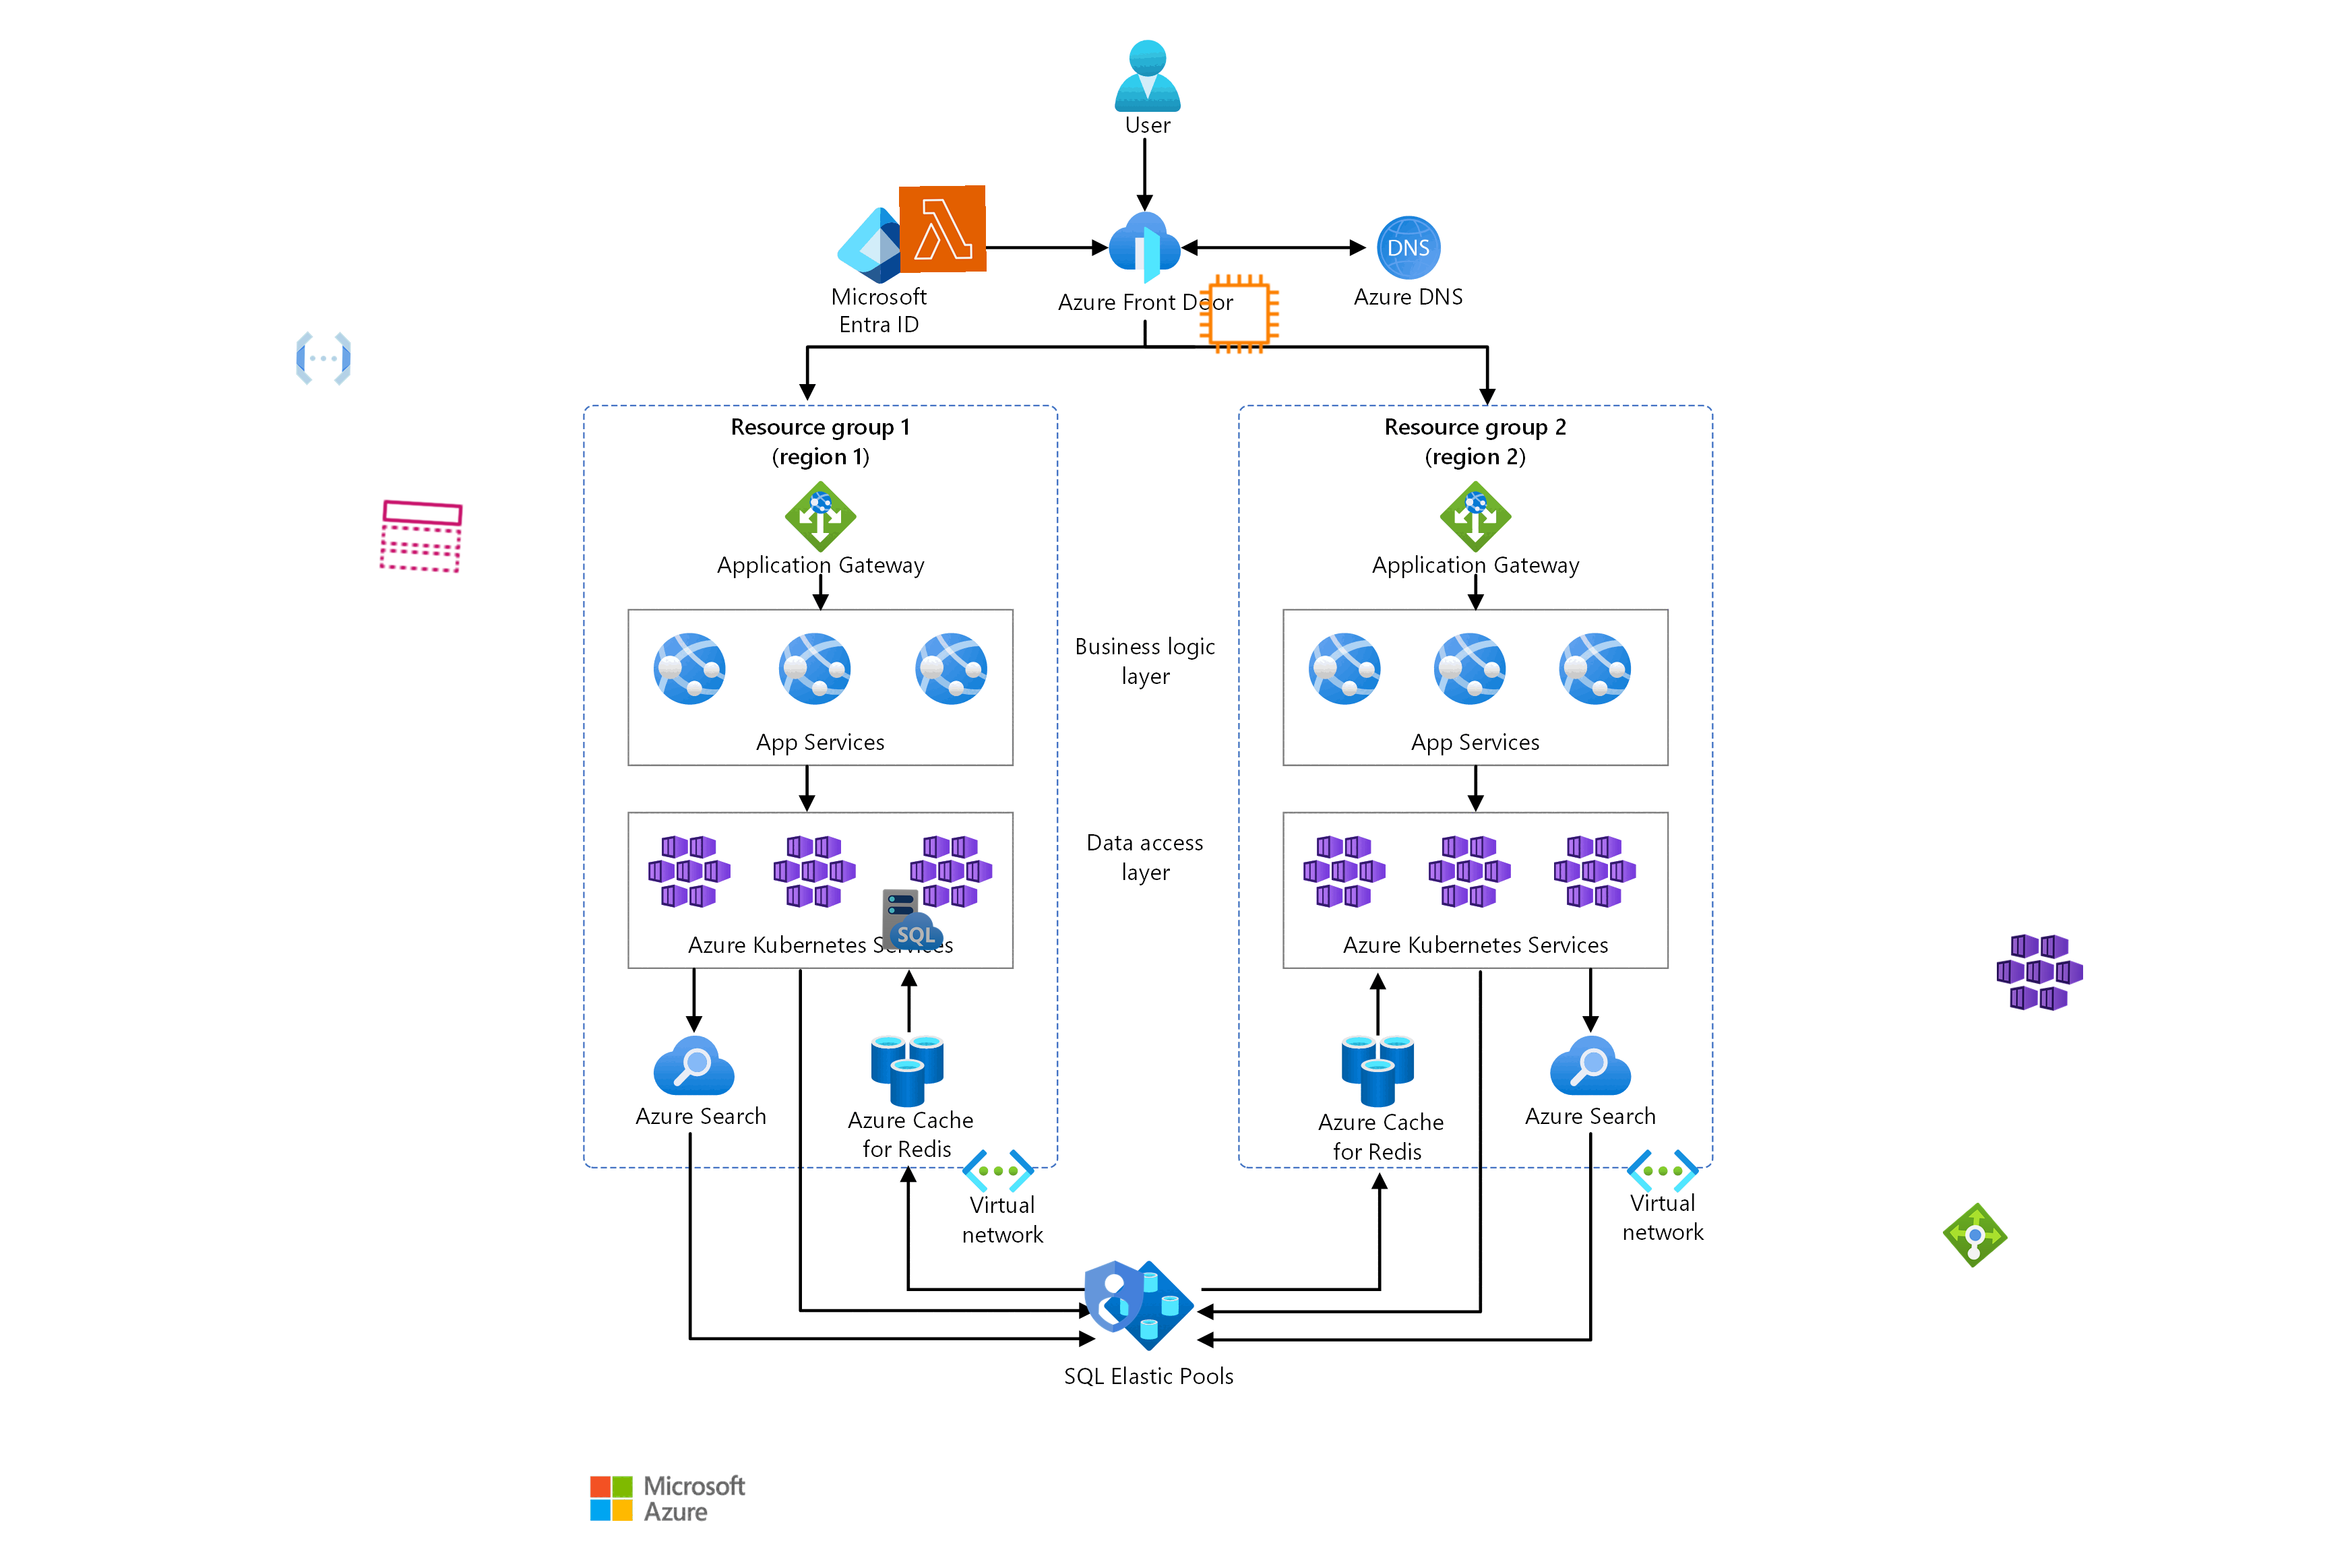aws_ec2_instance: (1195, 269, 1283, 357)
aws_lambda: (899, 185, 987, 273)
aws_simple_notification_service_topic: (376, 490, 467, 583)
azure_kubernetes_services: (1997, 928, 2084, 1015)
azure_load_balancers: (1941, 1200, 2011, 1270)
azure_sql_managed_instance: (880, 887, 947, 952)
gcp_cloud_functions: (290, 326, 357, 392)
gcp_identity_and_access_management: (1069, 1251, 1158, 1341)
